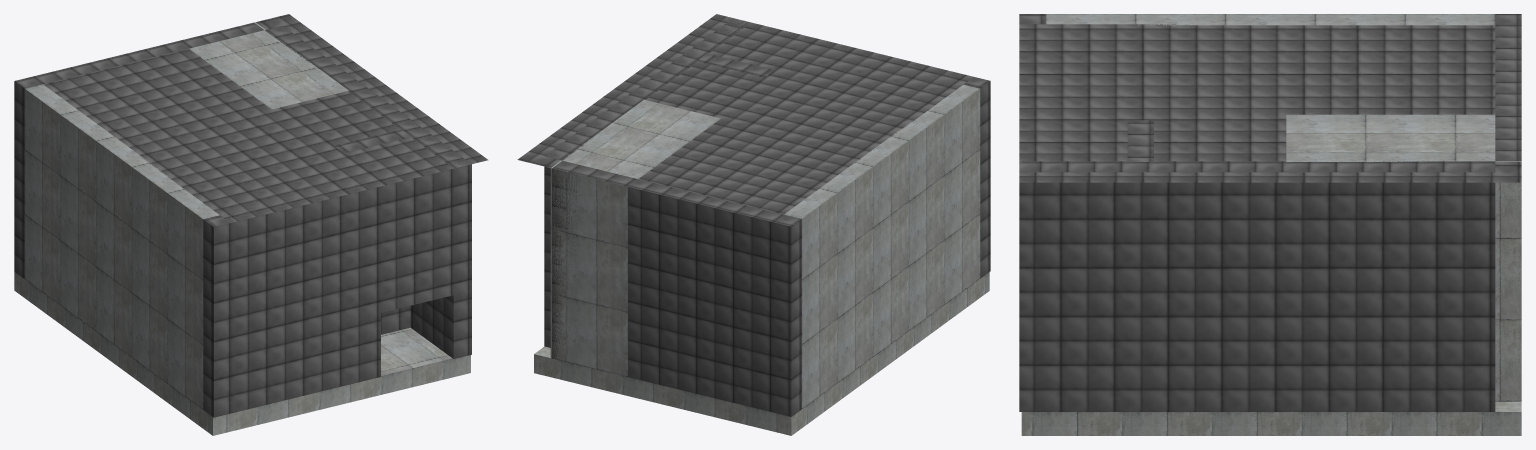
Rendered from Level_26.fbx.
The picture shows the model from 3 angles, left to right: view 1: azimuth 30°, elevation 25°; view 2: azimuth 150°, elevation 25°; view 3: azimuth 270°, elevation 25°; orthographic projection. The views are drawn at different scales.
Parts seen in each view (by area): view 1: NoTeleport.015, Wall.016; view 2: NoTeleport.015, Wall.016; view 3: NoTeleport.015, Wall.016.
Part boxes in pixels (<box>): NoTeleport.015: <box>14,14,488,417</box>; Wall.016: <box>14,22,470,435</box>; NoTeleport.015: <box>517,14,990,416</box>; Wall.016: <box>534,84,989,435</box>; NoTeleport.015: <box>1019,14,1521,411</box>; Wall.016: <box>1021,14,1521,435</box>.
Size of the model in its own units: 15.09 by 19 by 11.
